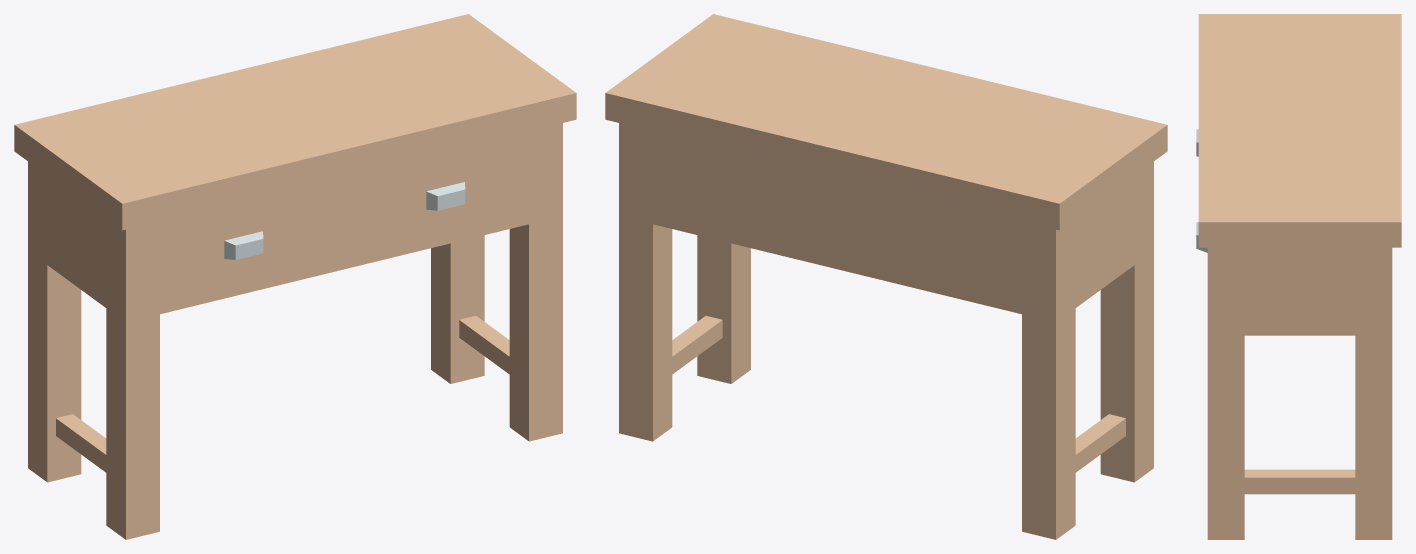
Rendered from sideTableDrawers.glb.
The picture shows the model from 3 angles, left to right: view 1: azimuth 30°, elevation 25°; view 2: azimuth 150°, elevation 25°; view 3: azimuth 270°, elevation 25°; orthographic projection. The views are drawn at different scales.
Visible parts, largest first — view 1: Mesh sideTableDrawers, drawerLeft, drawerRight; view 2: Mesh sideTableDrawers; view 3: Mesh sideTableDrawers.
Part boxes in pixels (left/top/right/bottom): Mesh sideTableDrawers: left=14, top=14, right=576, bottom=539; drawerLeft: left=160, top=202, right=327, bottom=287; drawerRight: left=362, top=153, right=528, bottom=238; Mesh sideTableDrawers: left=605, top=14, right=1167, bottom=539; Mesh sideTableDrawers: left=1198, top=14, right=1401, bottom=539.
Bounding box in the file's own units: 0.5345 × 0.3844 × 0.2223.
